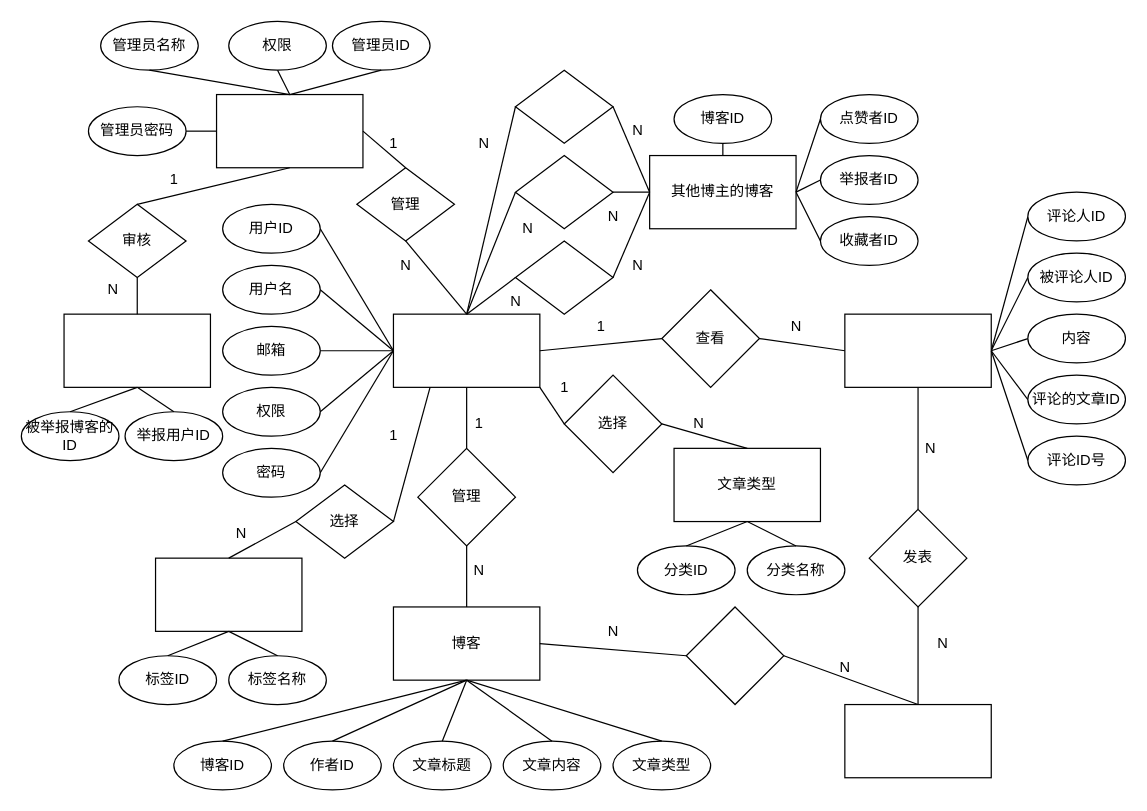
The diagram is 1147 pixels wide and 811 high, and some of its shapes have lost their labels. The shapes that lost their labels are listed below. From the top down, each one's box as (x1, y1, x2, y2) in pixels, then its label:
(514, 69, 613, 143): 点赞
(215, 93, 363, 168): 管理员
(514, 154, 613, 229): 收藏
(514, 240, 613, 314): 举报
(63, 313, 210, 387): 被举报的博客
(392, 313, 540, 387): 用户
(844, 313, 991, 387): 评论
(154, 557, 302, 631): 标签类型
(685, 606, 784, 705): 阅读
(844, 703, 991, 778): 其他注册用户
